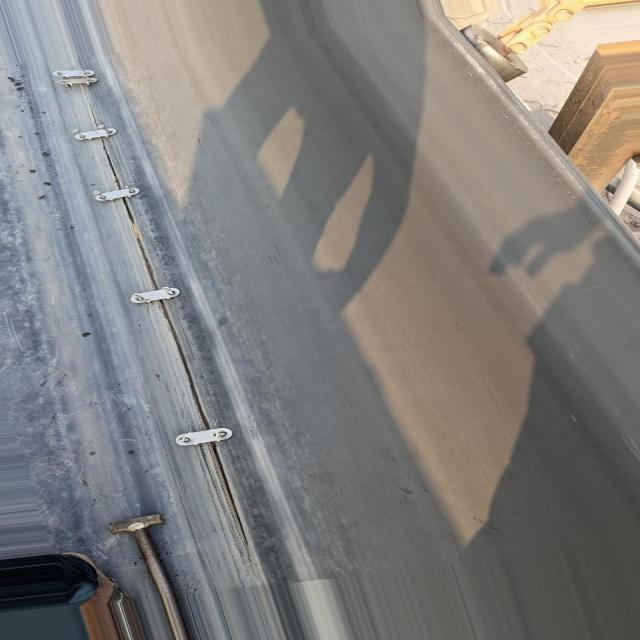Other Objects: (0, 549, 128, 640), (110, 509, 193, 640)
Roller: (464, 19, 531, 78)
patch work: (37, 60, 260, 542)
